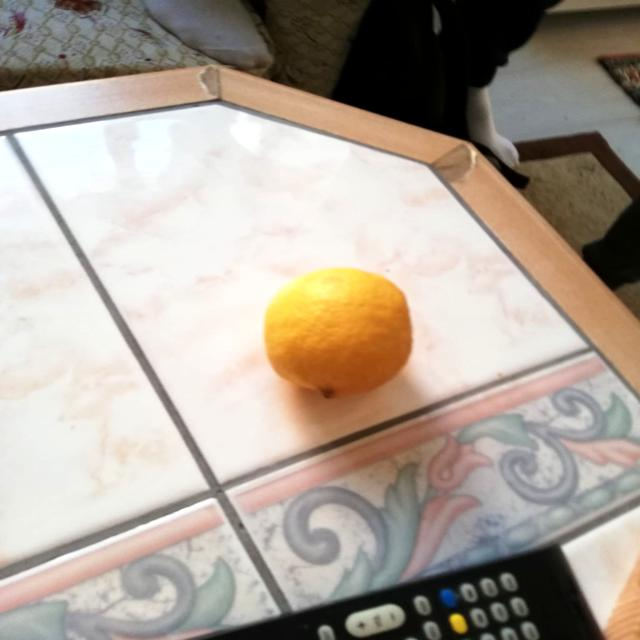lemon: (256, 256, 424, 412)
